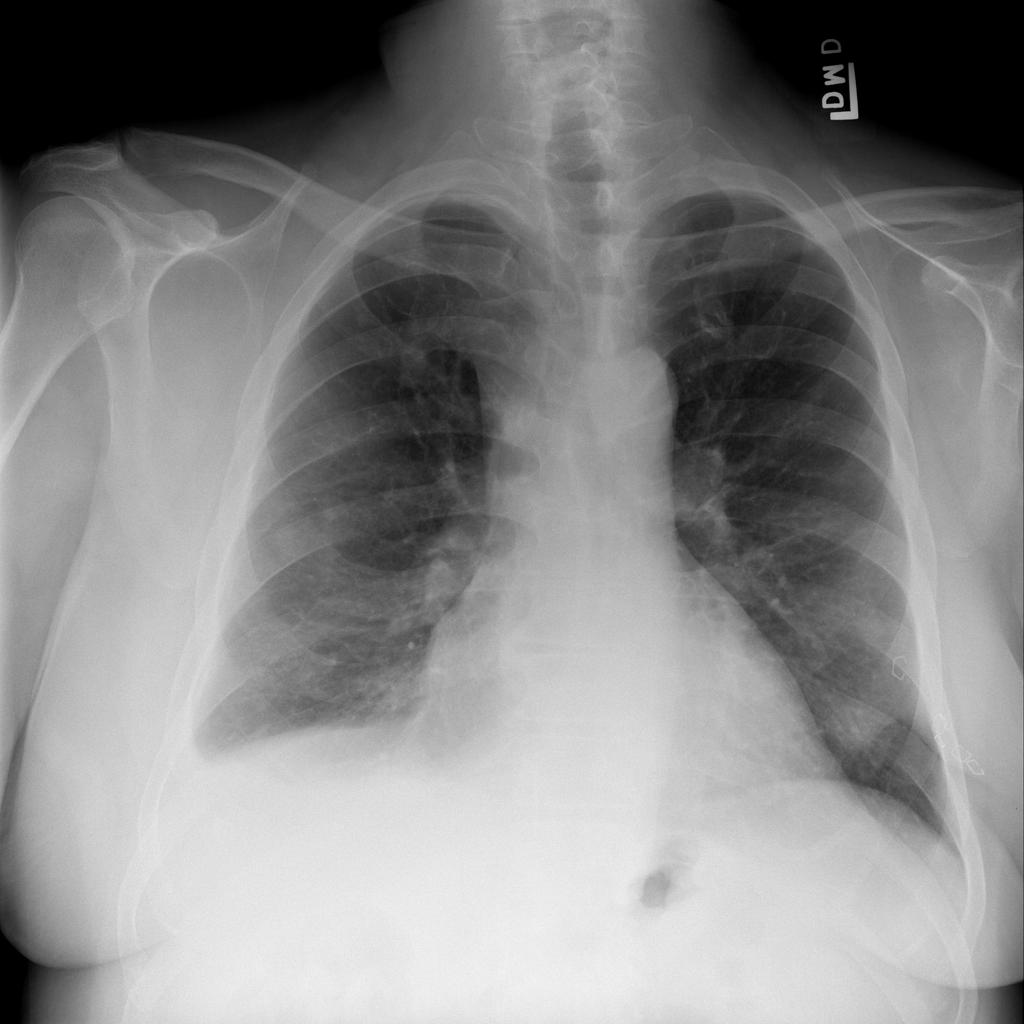nodule: (380, 324, 451, 396), (304, 488, 359, 536)
